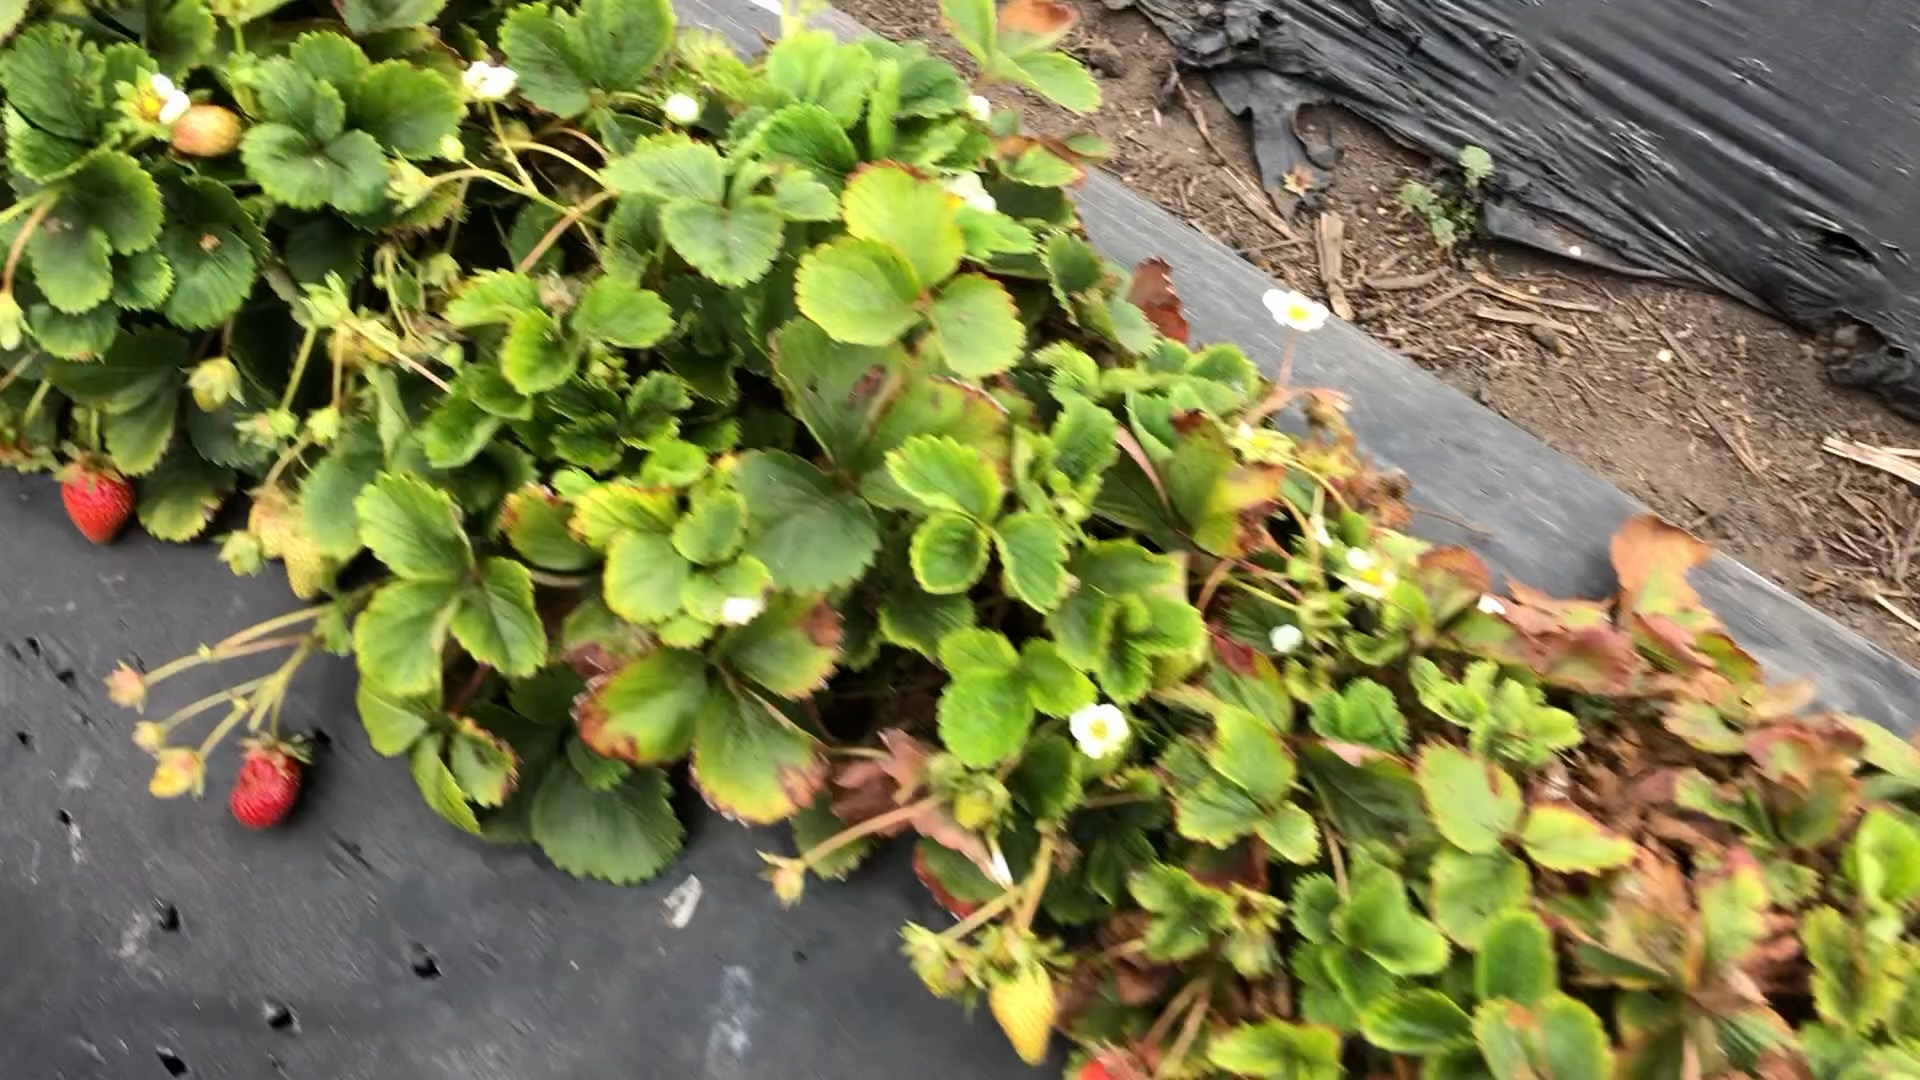ripe_strawberry: (55, 444, 138, 550), (229, 735, 302, 833)
unripe_strawberry: (977, 945, 1065, 1073), (171, 98, 249, 162), (284, 513, 338, 601), (142, 746, 204, 800), (256, 487, 294, 568), (196, 359, 241, 414)
